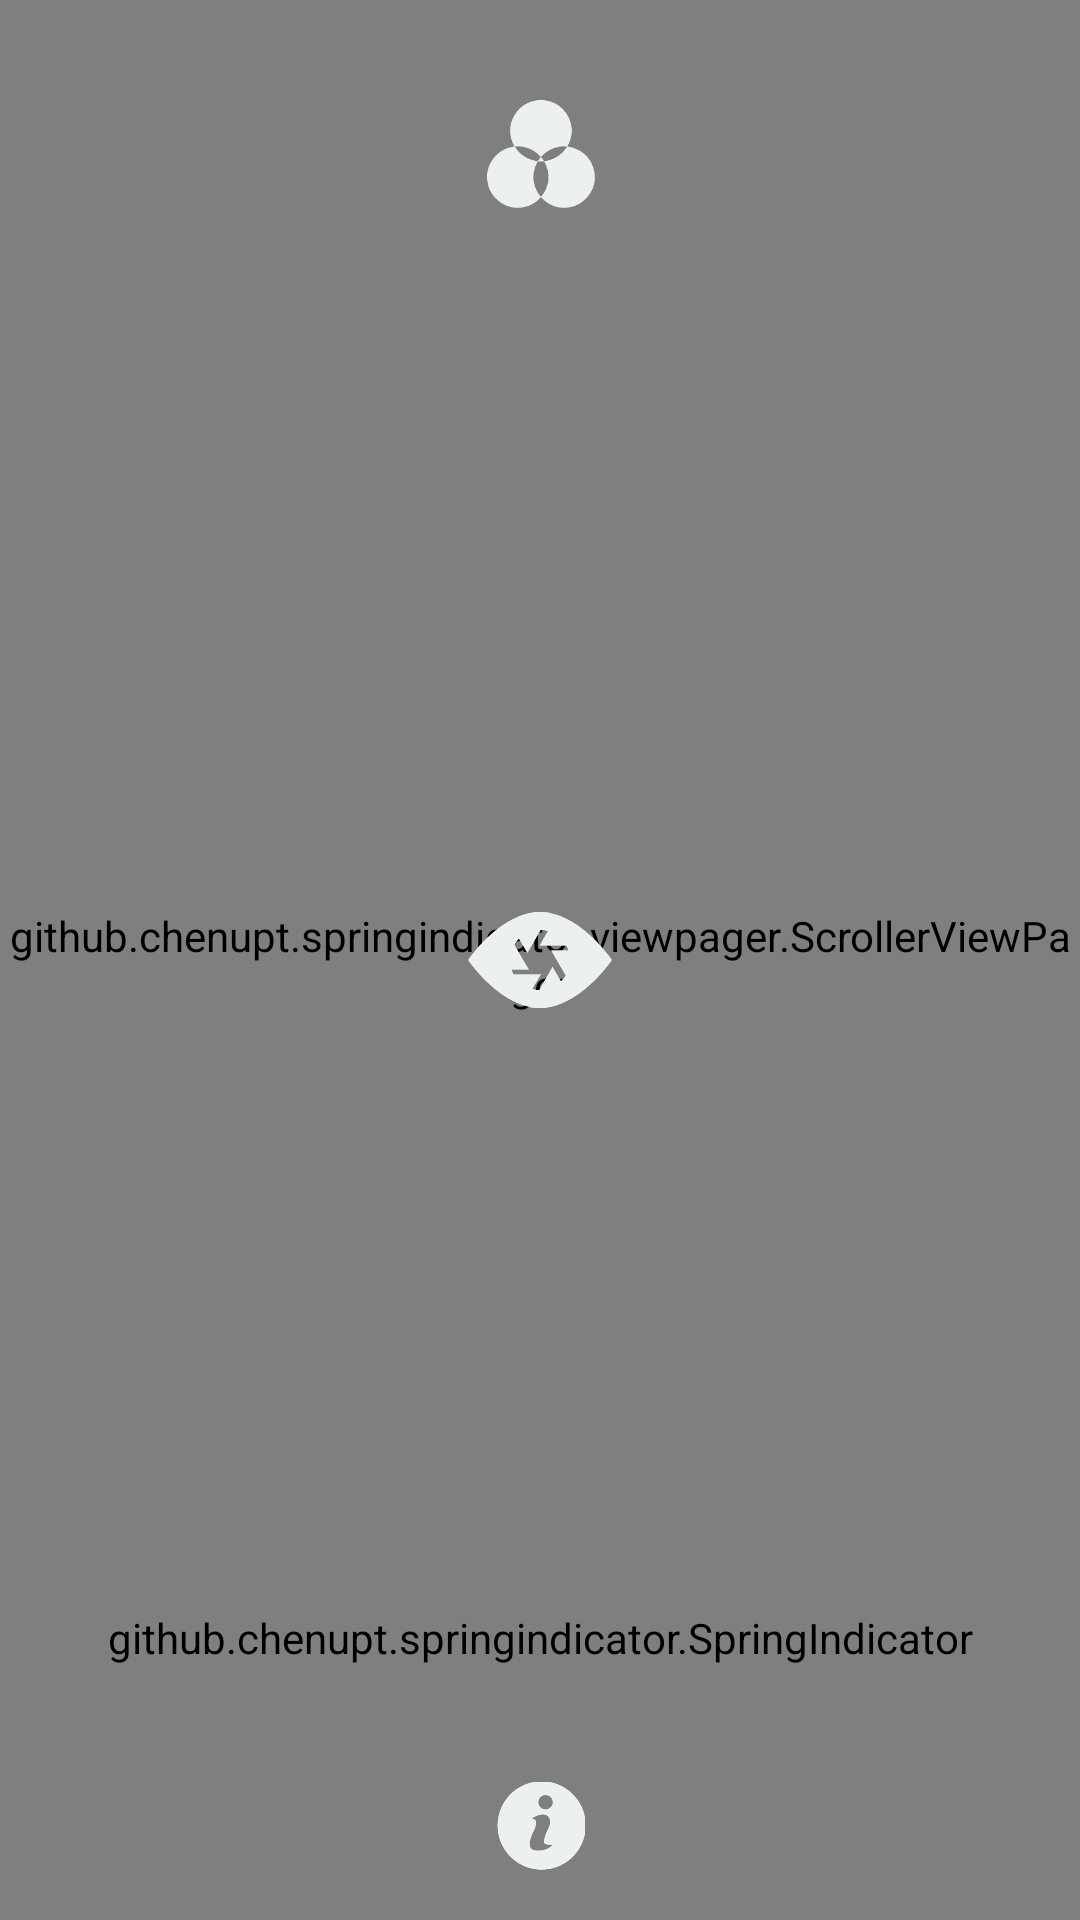

Screen size 1080px x 1920px. Icon name, then its box in pixels as (x1, y1, x2, y2):
info: (497, 1782, 585, 1870)
